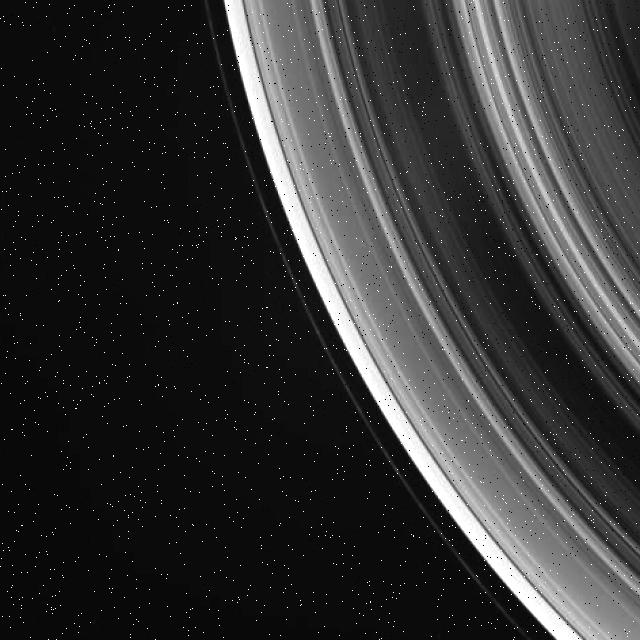Saturn: (196, 0, 640, 640)
